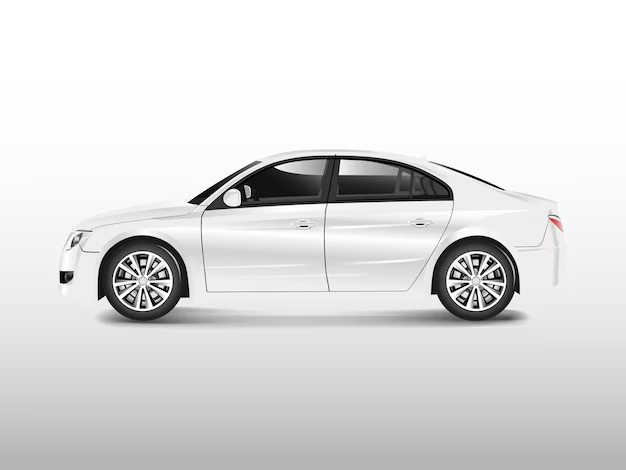car: (1, 173, 602, 432), (59, 151, 567, 325)
